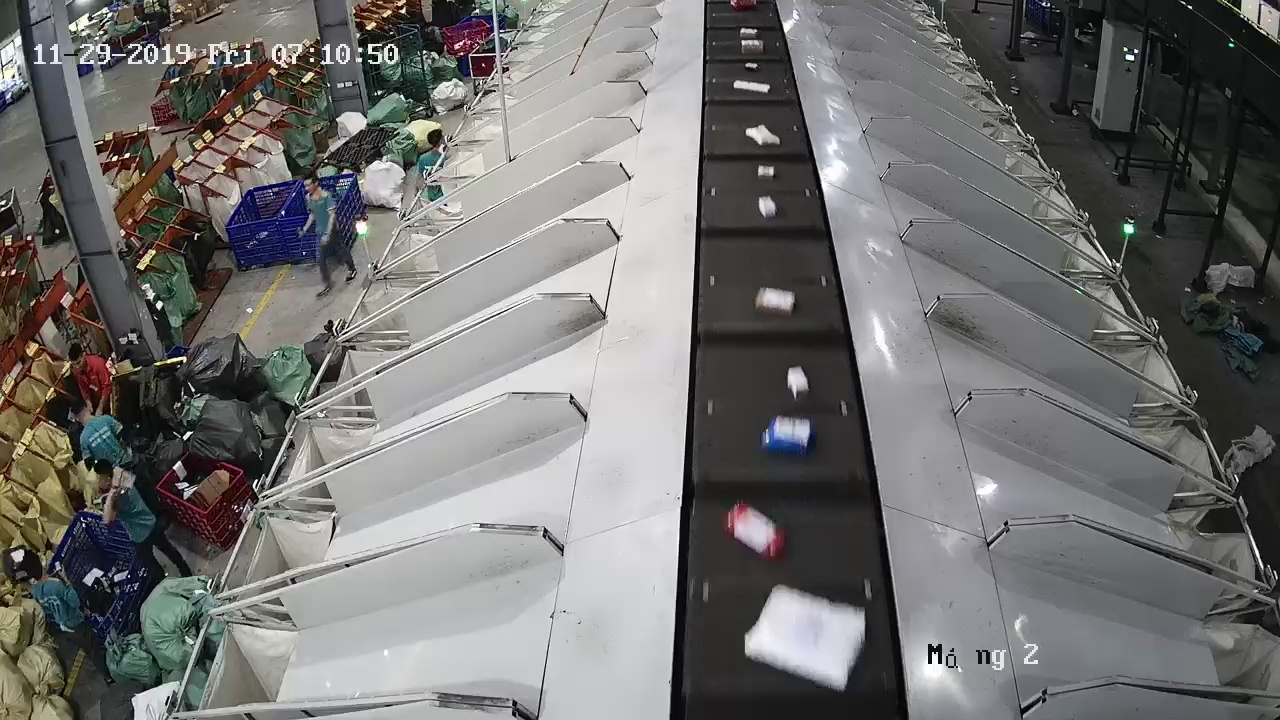parcel: (744, 585, 866, 691), (723, 502, 788, 562), (759, 414, 817, 458), (754, 286, 796, 317), (745, 124, 782, 147), (786, 365, 809, 397), (758, 195, 778, 219), (757, 164, 775, 182)
